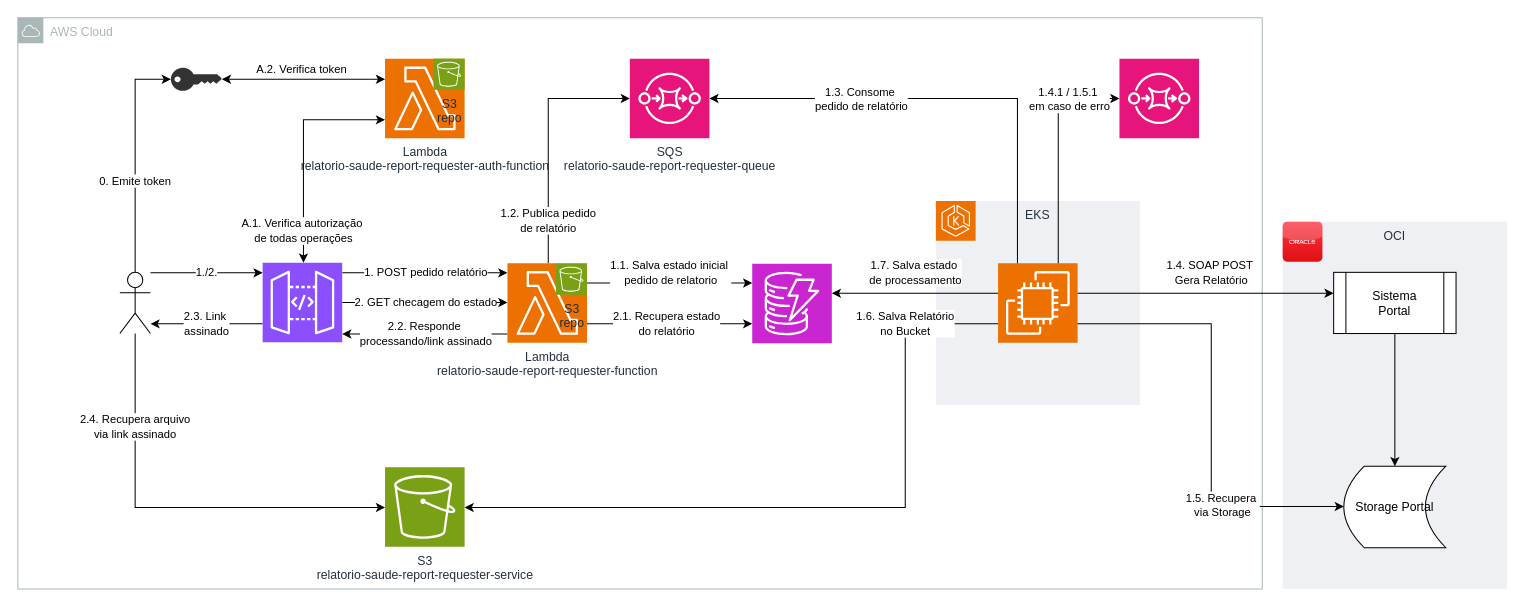
This 1525x607 diagram has some shape labels left out. Here are the shapes that lost their labels. From the top down, the centre of each, then its label:
(x=195, y=78): Keycloak RHSSO
(x=1158, y=98): SQS relatorio-saude-report- requester -dlq
(x=134, y=302): SISTEMAS
(x=302, y=302): API GW relatorio-saude-report- requester -api
(x=791, y=303): DynamoDB relatorio-saude-report- requester -service
(x=1037, y=302): EC2 Container relatorio-saude-report- requester -service
